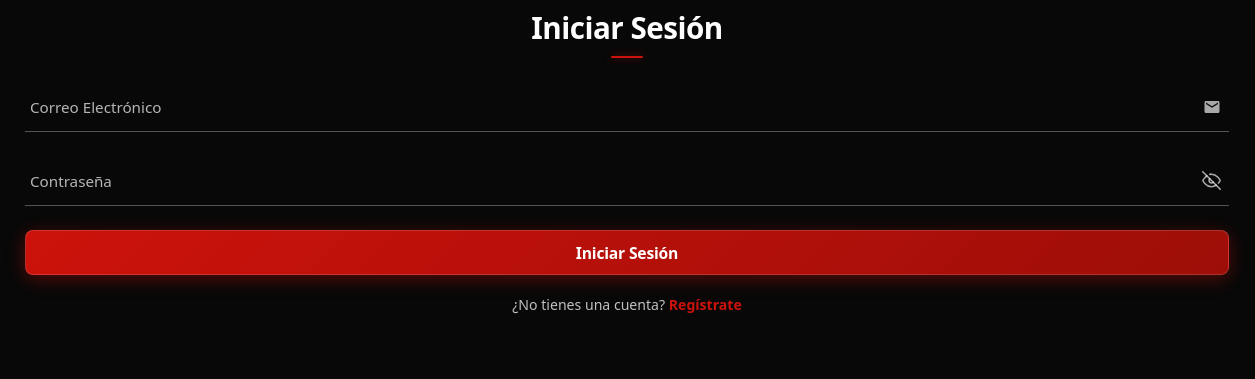
Scenario: LoginForm › muestra un error y evita el envío si el correo es inválido
In the field labelled "Correo Electrónico": (627, 106) [25,82,1229,131], type "correo-invalido"
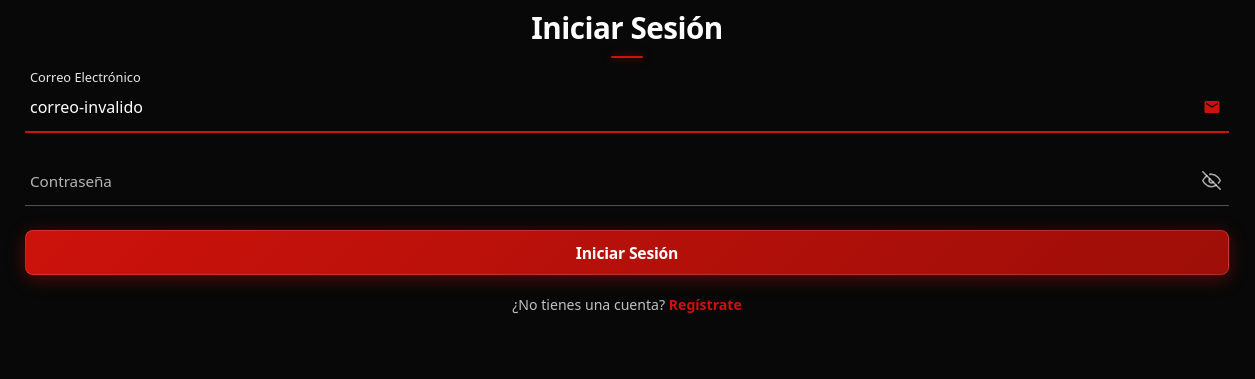
Click the button "Iniciar Sesión": (627, 252) [25,230,1229,275]
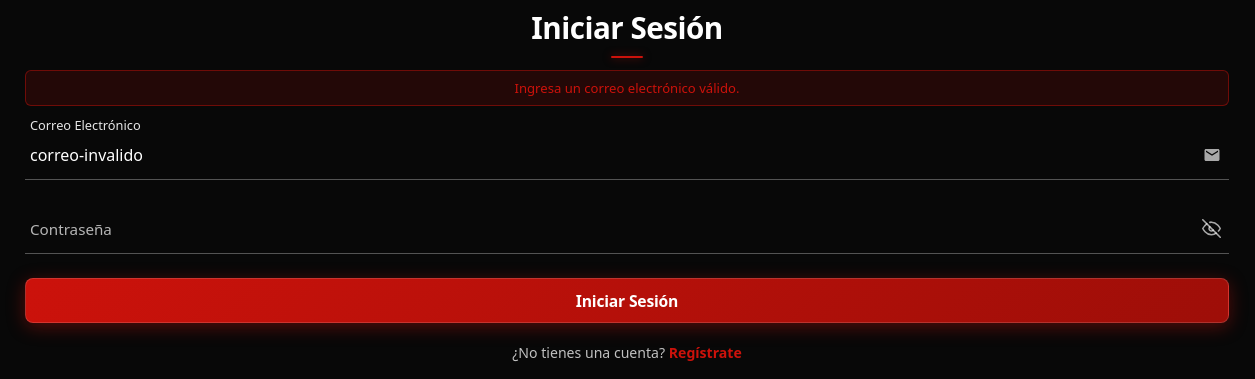
Check: the message reads "Ingresa un correo electrónico válido.", box [514,79,740,97]
